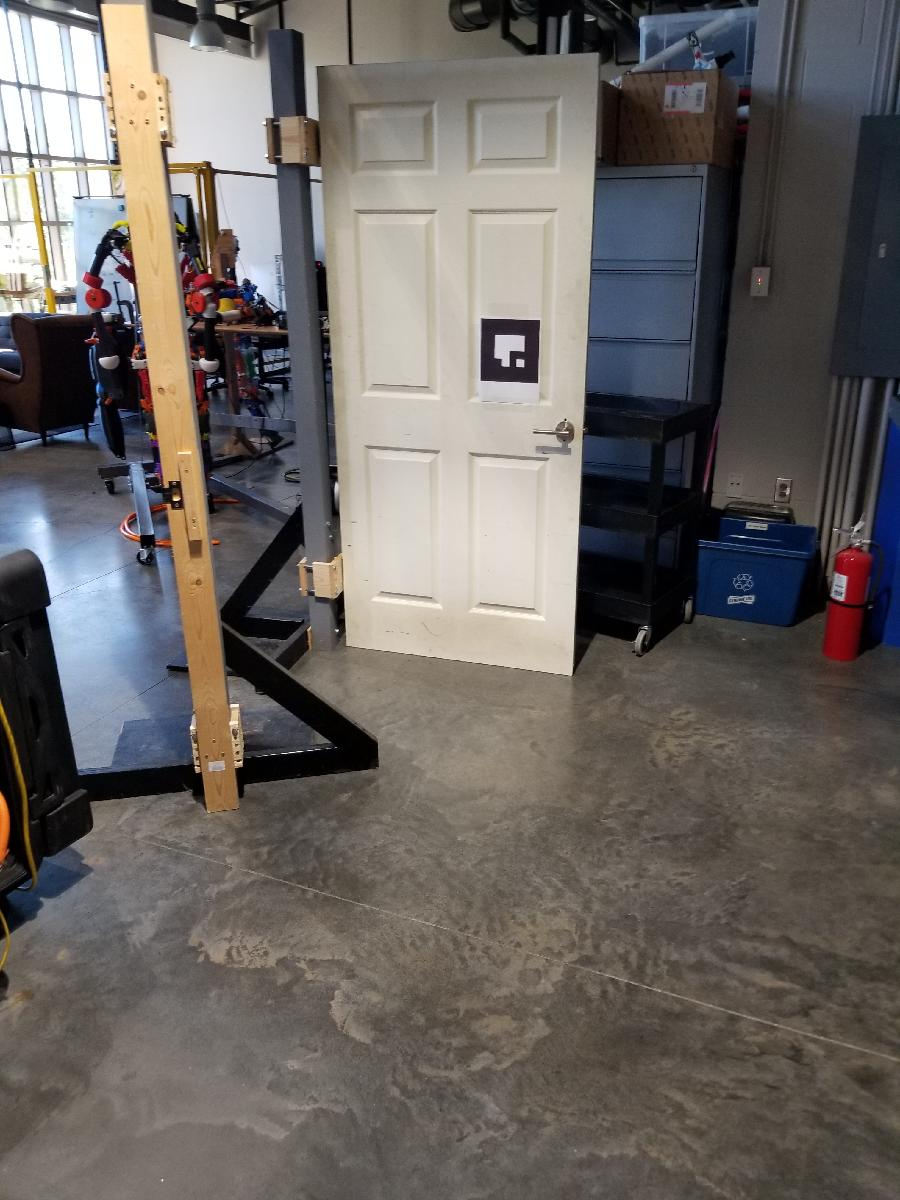door: (314, 51, 603, 679)
doorHandle: (526, 415, 578, 455)
